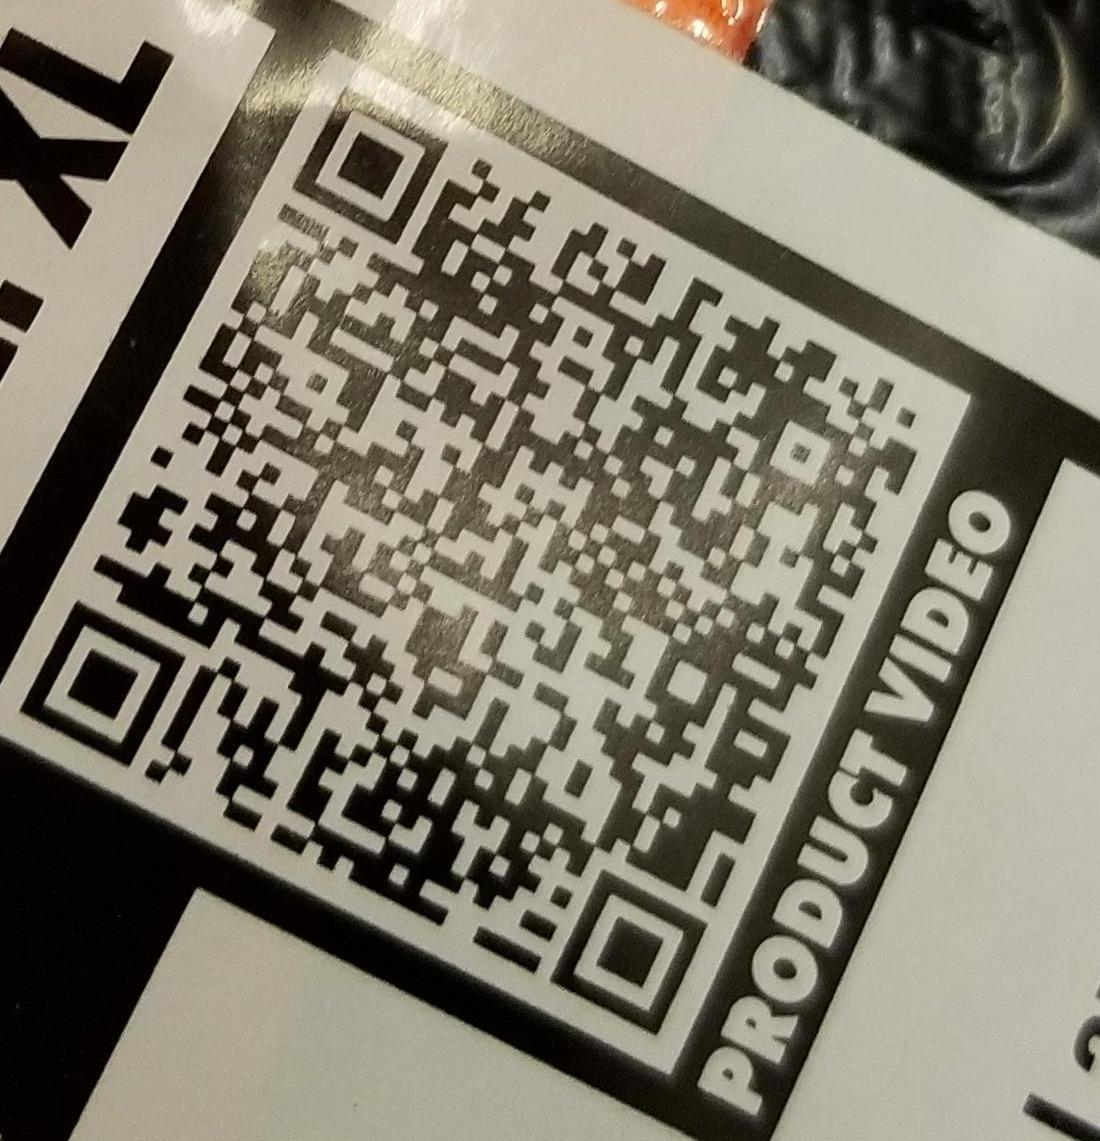qrcode: (19, 87, 923, 1041)
